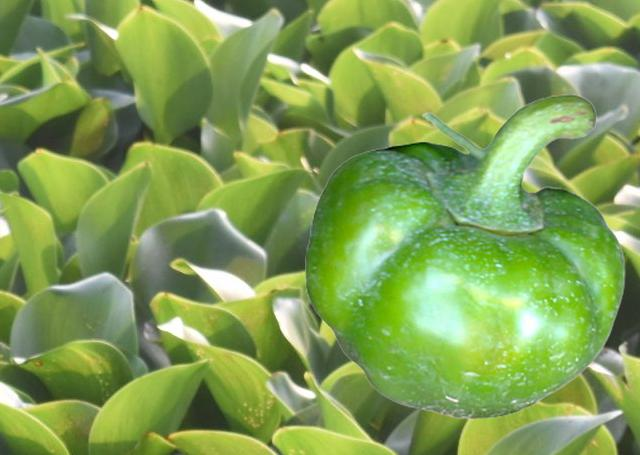bell_pepper: (305, 93, 624, 418)
